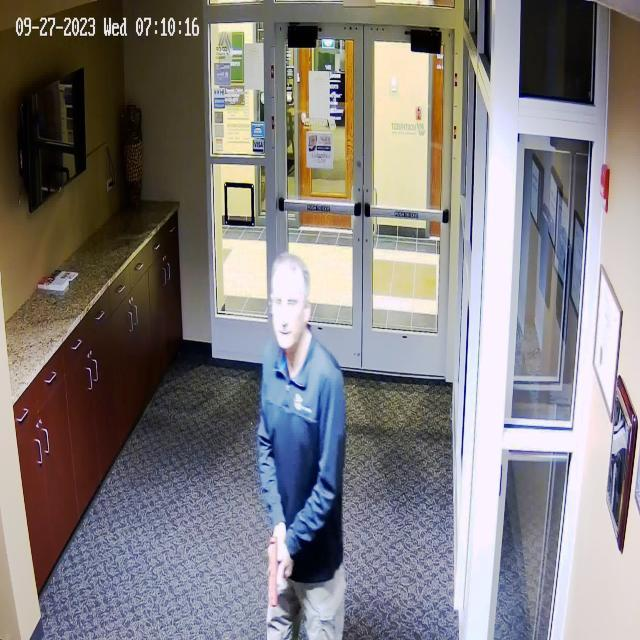Gun: (257, 539, 304, 617)
